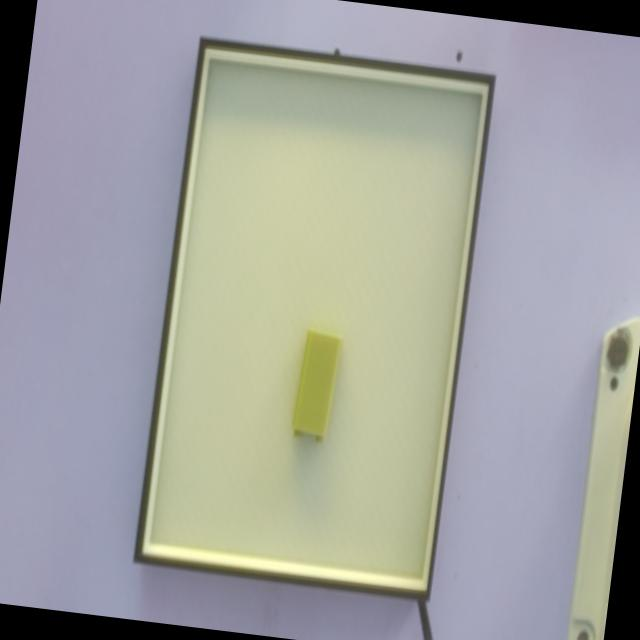bateria: (289, 326, 341, 444)
mesa: (133, 37, 495, 602)
